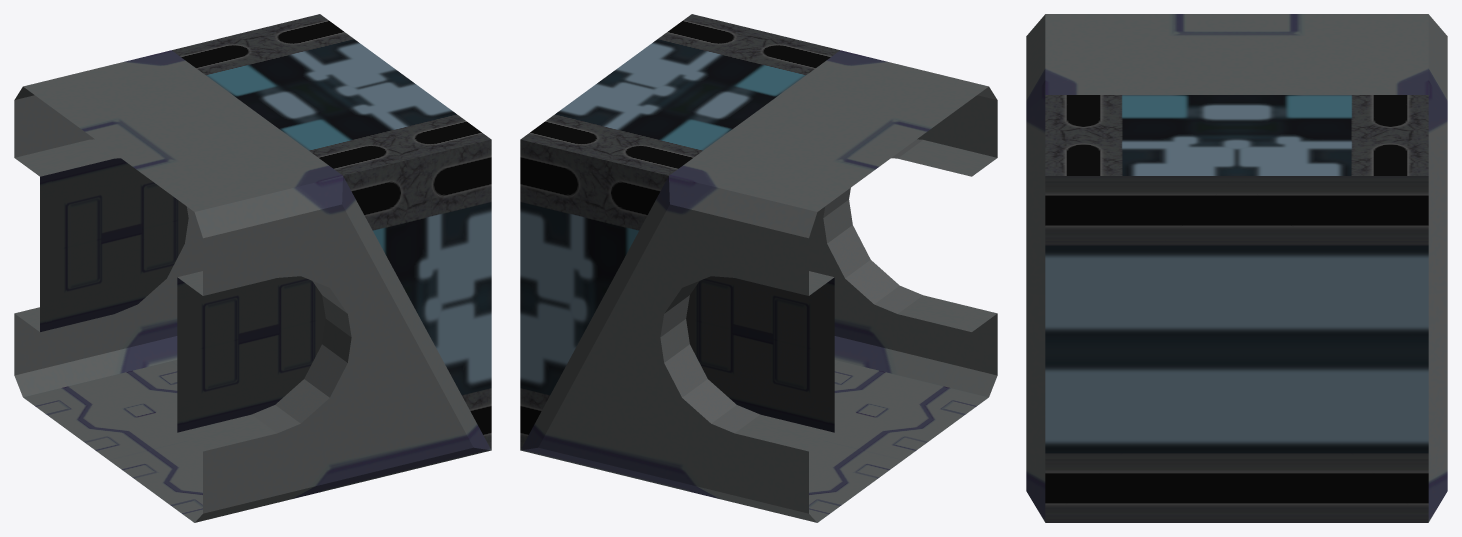
Rendered from tiles_prison_door_frame_right_2.glb.
The picture shows the model from 3 angles, left to right: view 1: azimuth 30°, elevation 25°; view 2: azimuth 150°, elevation 25°; view 3: azimuth 270°, elevation 25°; orthographic projection. The views are drawn at different scales.
Parts seen in each view (by area): view 1: PrisonDoorArchRight2; view 2: PrisonDoorArchRight2; view 3: PrisonDoorArchRight2.
Part boxes in pixels (x1,y1,x2,y2): PrisonDoorArchRight2: (14, 14, 491, 522); PrisonDoorArchRight2: (520, 14, 997, 522); PrisonDoorArchRight2: (1026, 14, 1447, 522).
Size of the model in its own units: 2 by 2 by 2.2.
3 materials, 3 textured.
